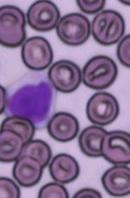L: (2, 69, 58, 129)
